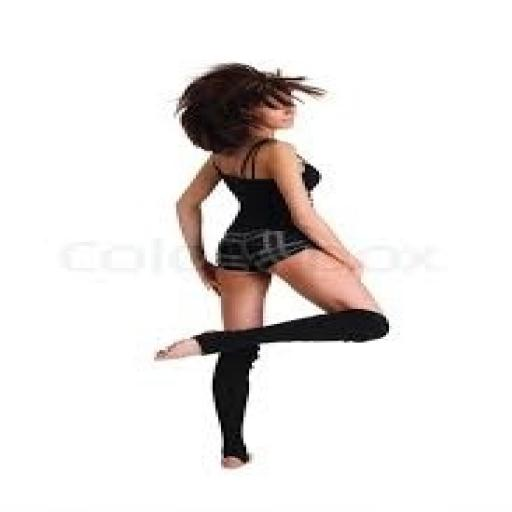dancing: (151, 60, 392, 471)
